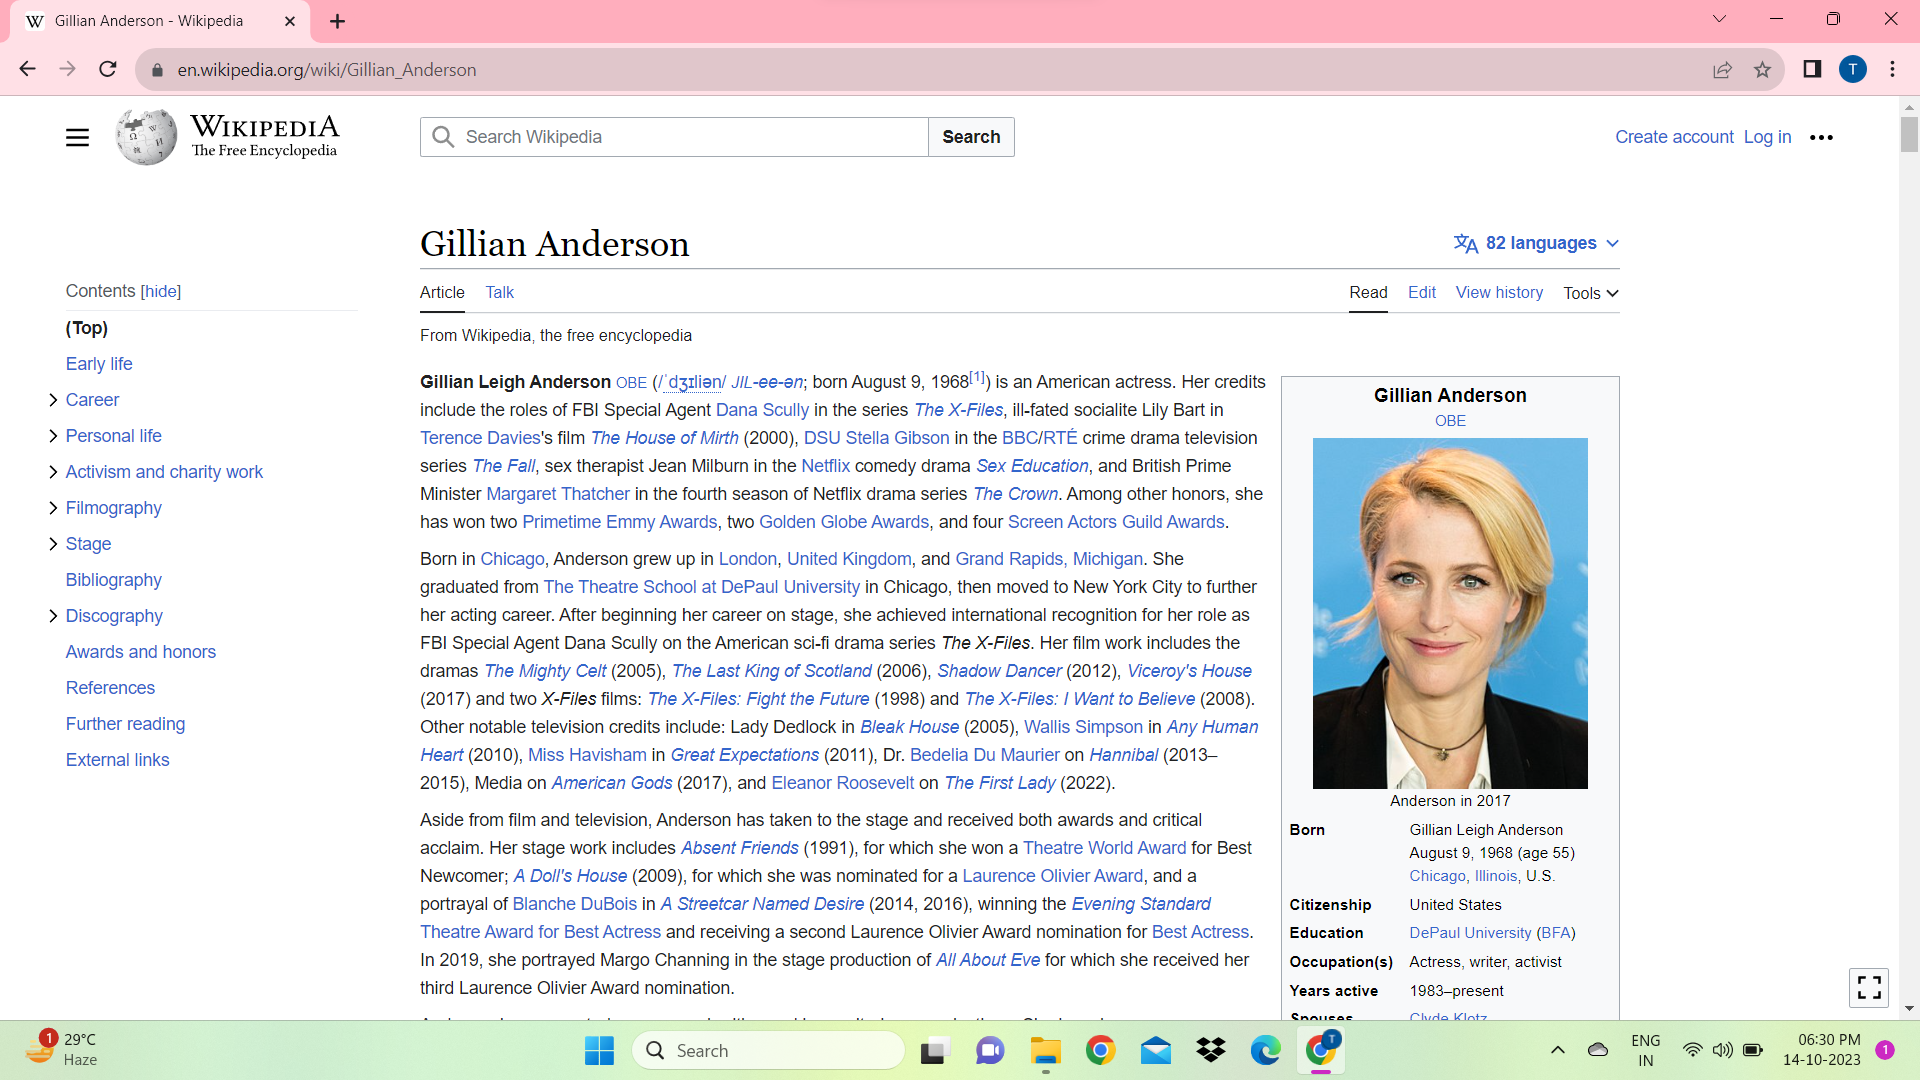Image: (1295, 421, 1597, 796)
Paragraph: (417, 539, 1265, 796), (407, 804, 1266, 1007), (417, 364, 1271, 535), (400, 203, 715, 274), (407, 316, 708, 352), (1402, 820, 1575, 868), (58, 459, 274, 488), (65, 272, 204, 305), (1411, 945, 1567, 975), (1361, 388, 1543, 411), (54, 742, 179, 774), (47, 669, 162, 699), (61, 423, 186, 451), (62, 644, 224, 665), (58, 563, 169, 593), (58, 607, 179, 634), (65, 712, 194, 737), (62, 496, 173, 522), (1283, 885, 1374, 916), (1407, 889, 1503, 916), (51, 349, 145, 377), (1395, 926, 1585, 939), (1402, 977, 1506, 1001), (1292, 980, 1387, 1005), (1452, 278, 1547, 302), (1290, 949, 1395, 971), (1283, 916, 1377, 940), (54, 309, 119, 340), (61, 386, 133, 410), (1283, 814, 1344, 841), (1337, 281, 1400, 306), (67, 530, 125, 556), (414, 281, 472, 302), (1557, 278, 1601, 302), (1407, 281, 1439, 306), (483, 282, 522, 302)
